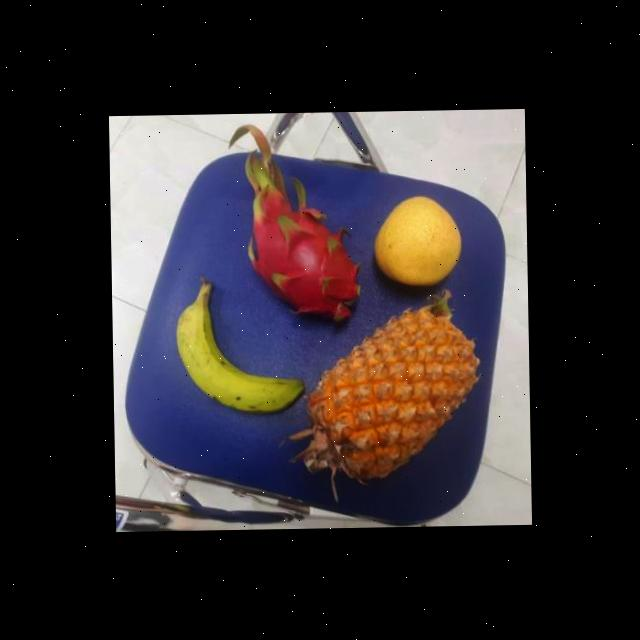banana: (170, 284, 303, 416)
pear: (369, 192, 465, 287)
pineapple: (298, 298, 472, 480)
pitaya: (248, 195, 362, 324)
